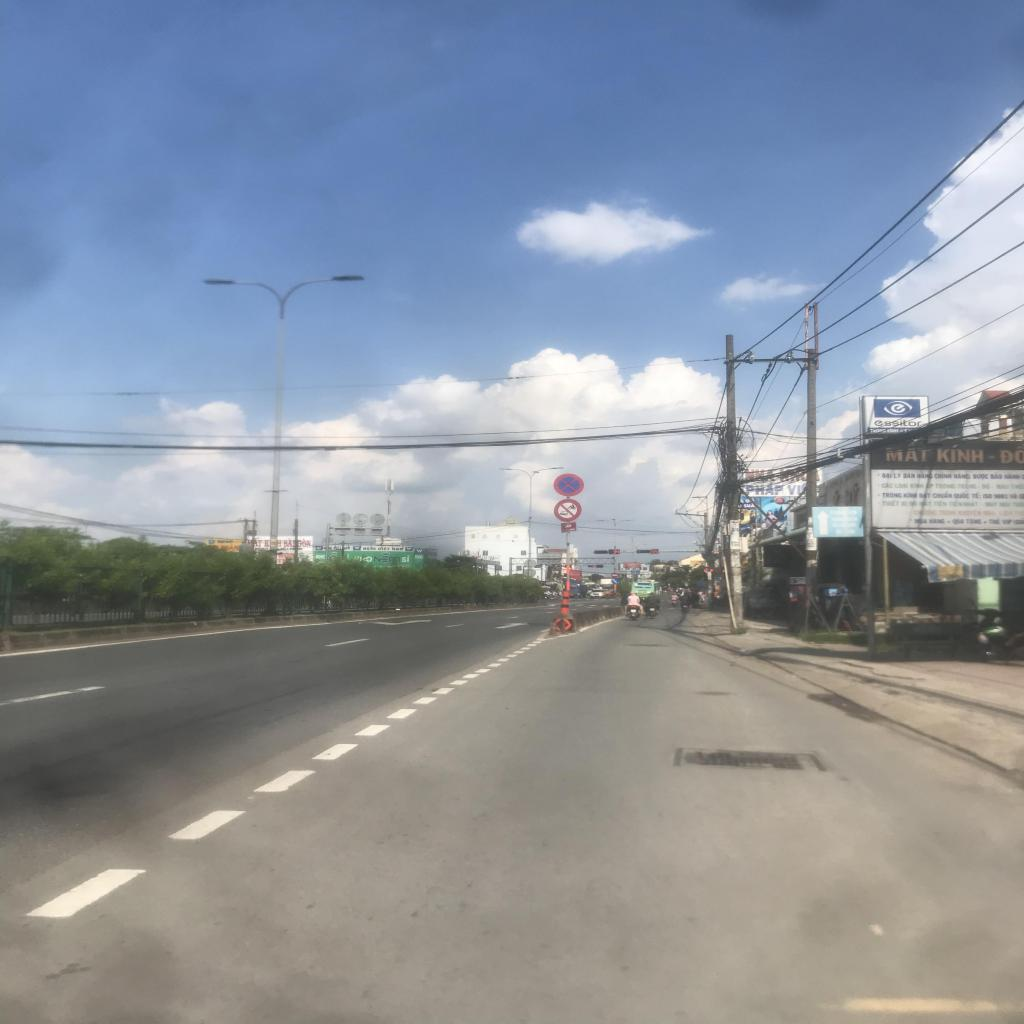cam_dung_xe_va_do_xe: (553, 473, 584, 497)
cam_xe_2_banh_va_xe_3_banh_co_dong_co: (554, 498, 582, 522)
cam_xe_di_nguoc_chieu: (612, 572, 618, 578)
huong_phai_di_vuot_chuong_ngai_vat_phai: (611, 578, 618, 584)
